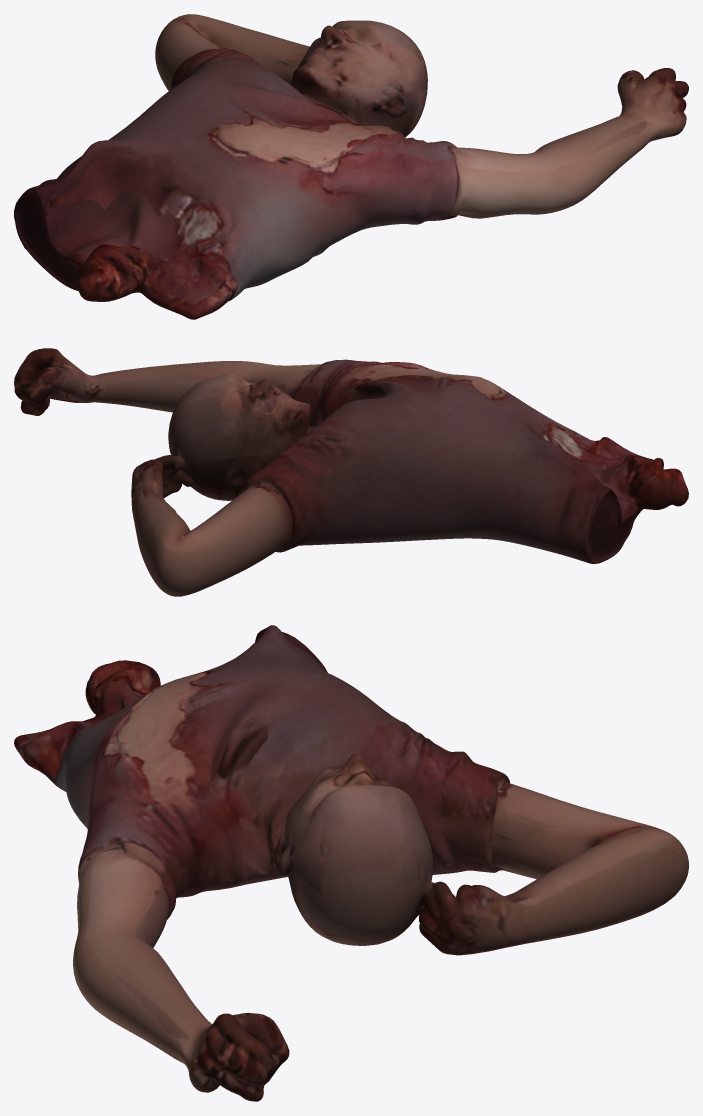
The model's file is overkropp.glb.
3 views of the same model, one above another, from view 1: azimuth 30°, elevation 25°; view 2: azimuth 150°, elevation 25°; view 3: azimuth 270°, elevation 25° (orthographic). The views are drawn at different scales.
Parts seen in each view (by area): view 1: node_0.001; view 2: node_0.001; view 3: node_0.001.
Part boxes in pixels (x1,y1,x2,y2): node_0.001: (14, 14, 688, 319); node_0.001: (14, 348, 688, 596); node_0.001: (14, 625, 688, 1101).
Bounding box in the file's own units: 0.4895 × 0.1037 × 0.353.
1 material, 1 textured.
